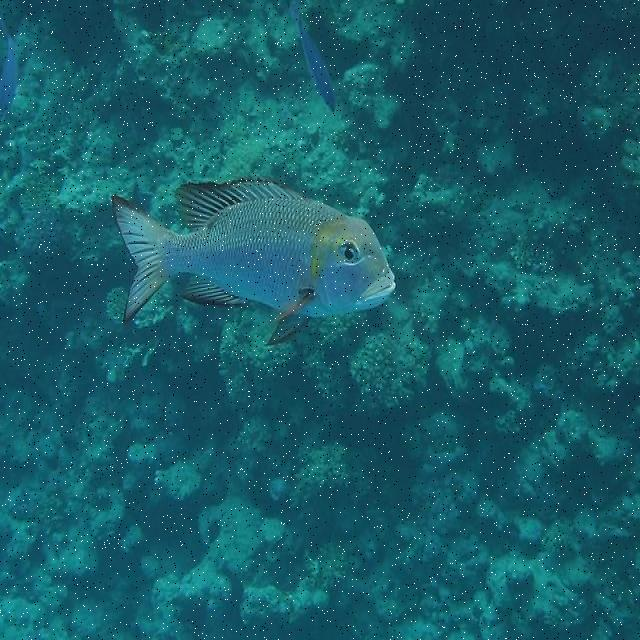fish: (112, 177, 398, 343), (300, 17, 335, 111)
